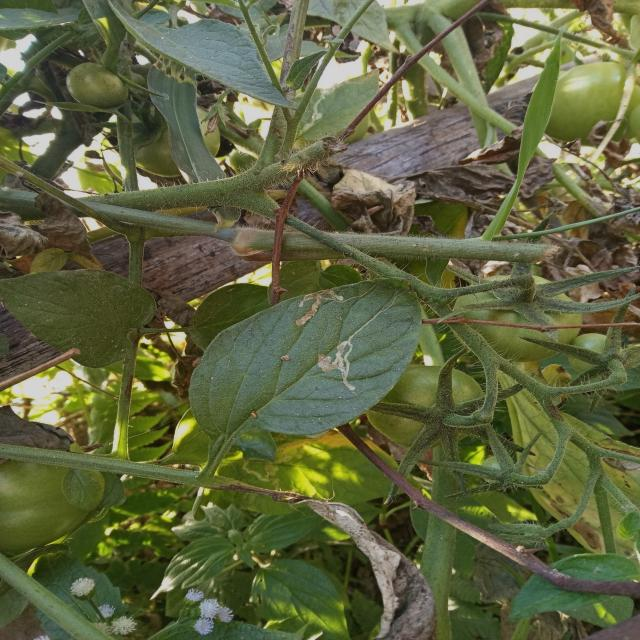Tuta absoluta: (315, 325, 361, 392), (286, 278, 344, 331)
